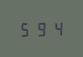five: (18, 20, 32, 37)
four: (49, 19, 63, 36)
nine: (34, 20, 48, 36)
